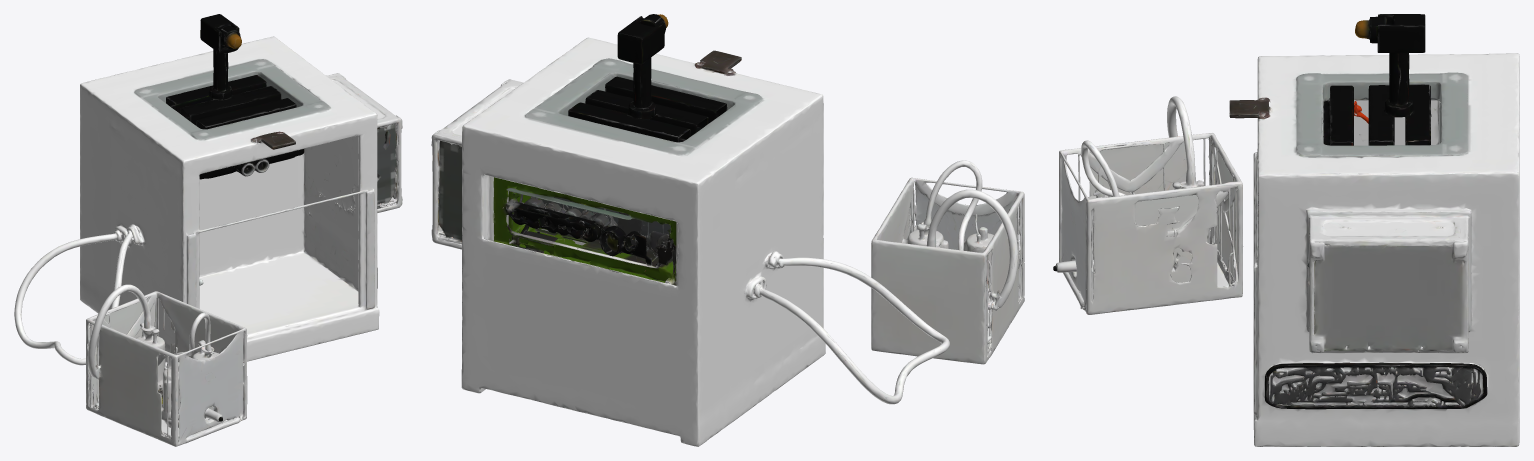
The model's file is Drainage_Inlet.glb.
The picture shows the model from 3 angles, left to right: view 1: azimuth 30°, elevation 25°; view 2: azimuth 150°, elevation 25°; view 3: azimuth 270°, elevation 25°; orthographic projection. The views are drawn at different scales.
Parts seen in each view (by area): view 1: world; view 2: world; view 3: world.
Boxes of the visible parts, x1,y1,x2,y2 form: world: (14,14,402,446); world: (431,14,1024,446); world: (1053,14,1519,446).
Size of the model in its own units: 0.9999 by 0.7563 by 0.8695.
Materials: 1 (1 with a texture image).
